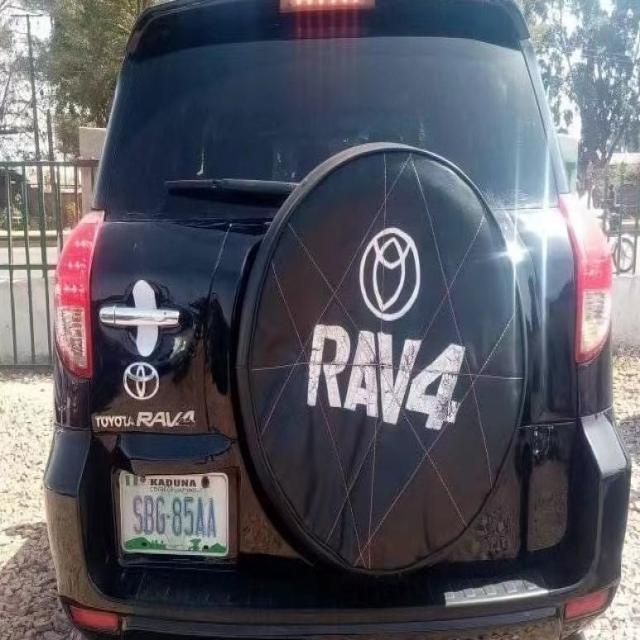Nigerian License Plate - vdataset benjamin-daria: (114, 465, 233, 563)
